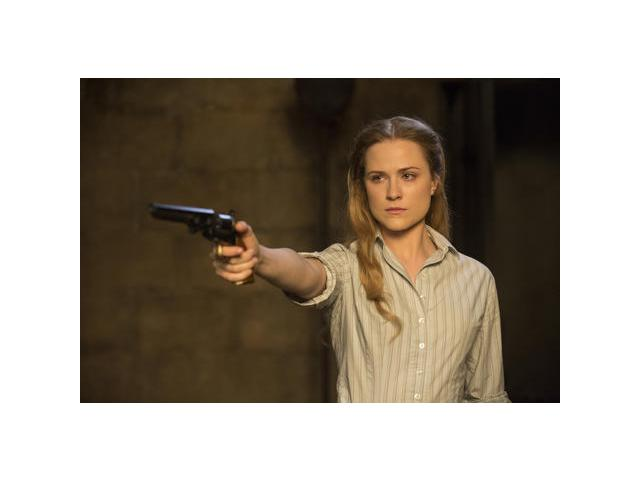pistol: (144, 202, 251, 286)
